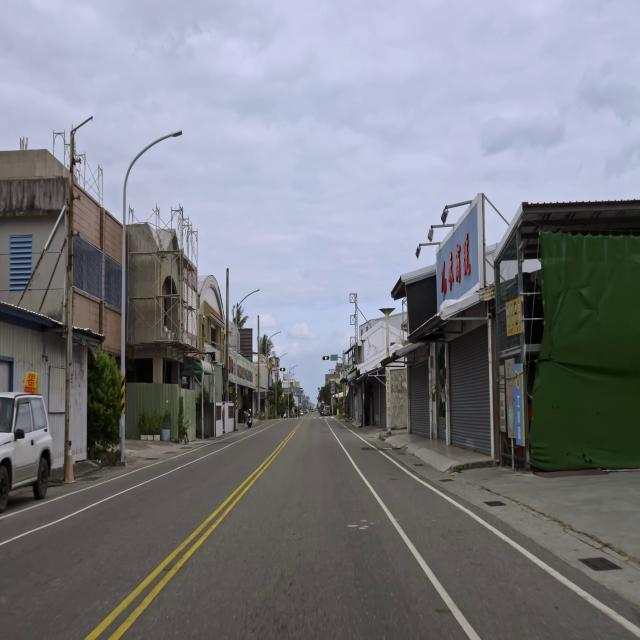yellow light: (322, 356, 330, 360), (280, 367, 286, 372)
